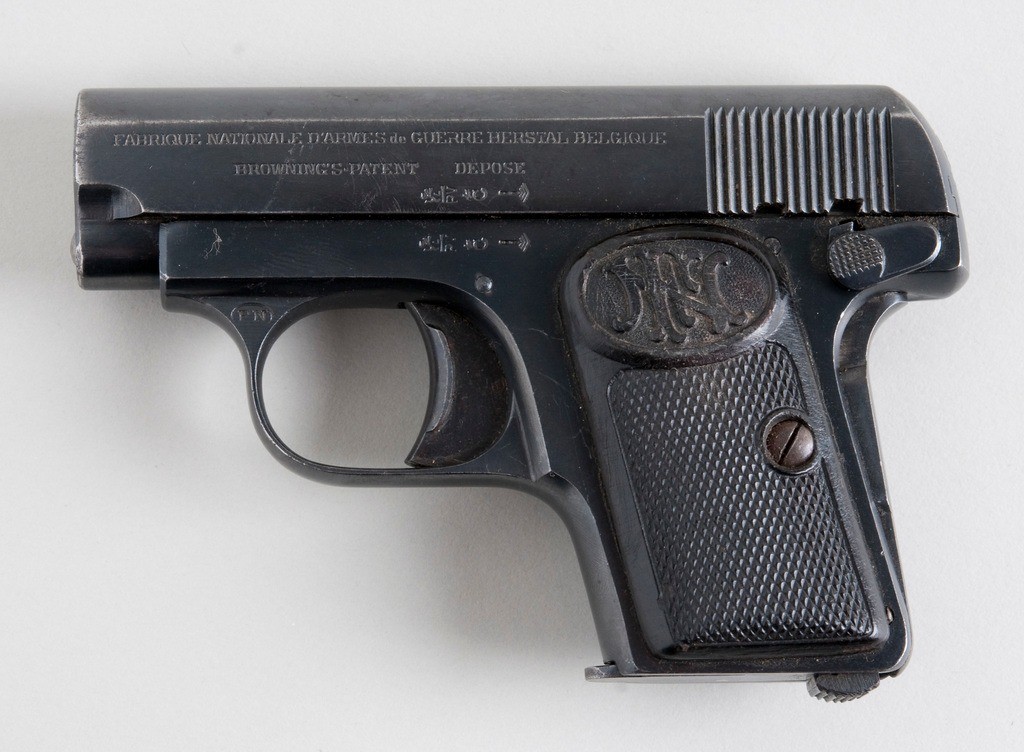gun: (62, 28, 988, 721)
